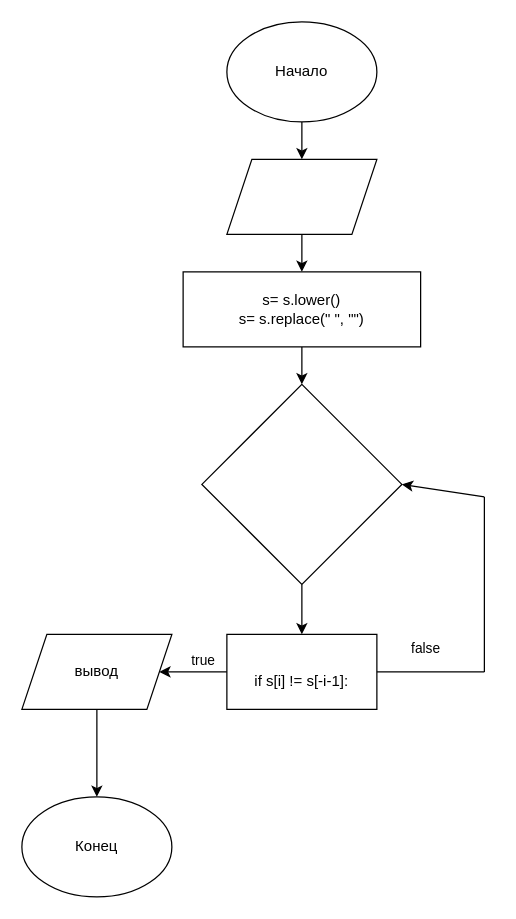
Some shapes in this 516 by 919 pixel diagram are drawn without their labels. The shapes that lost their labels are listed below. From the top down, each one's box as (x1, y1, x2, y2) in pixels, then its label:
(226, 158, 377, 234): Ввод s
(201, 383, 402, 584): for i in range
